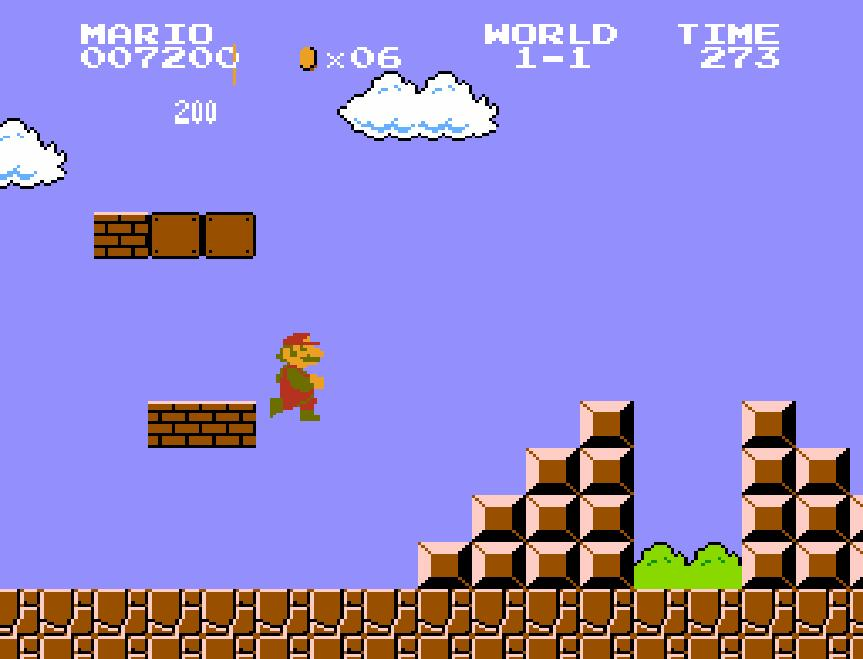big_mario: (267, 325, 325, 423)
